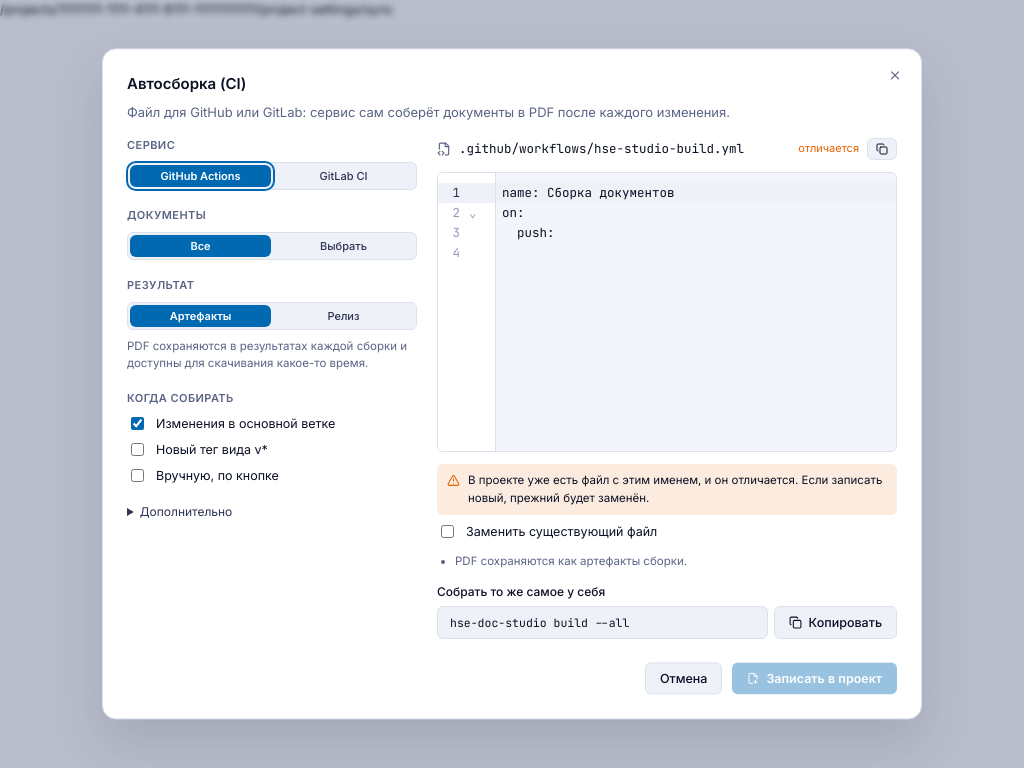
Test: окно автосборки (CI) › файл уже есть в проекте › отличающийся файл заменяется только после подтверждения
Expected: the text with test id "ci-state-differs" reads "отличается", [798,142,859,156]
Expected: the text "уже есть файл с этим именем" is shown, [468,474,882,505]
Click the checkbox with test id "ci-overwrite" at (448, 532), box [441,525,454,538]
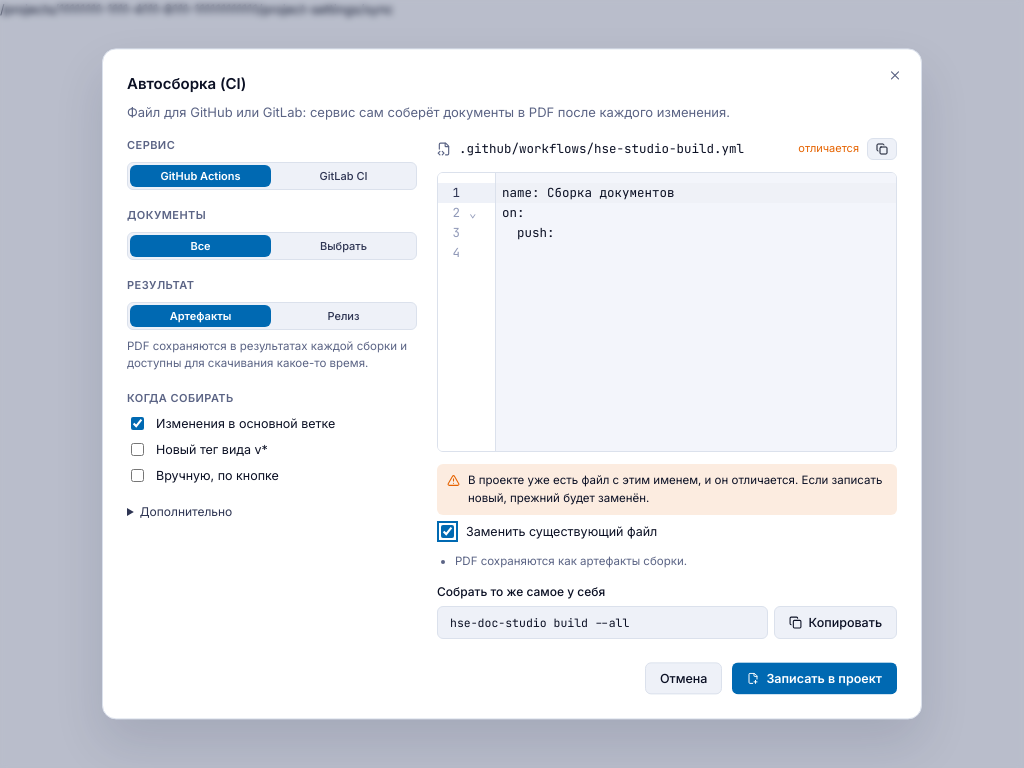
Expected: the button "Записать в проект" is enabled
Click the button "Записать в проект" at (815, 679), box [732,663,897,695]
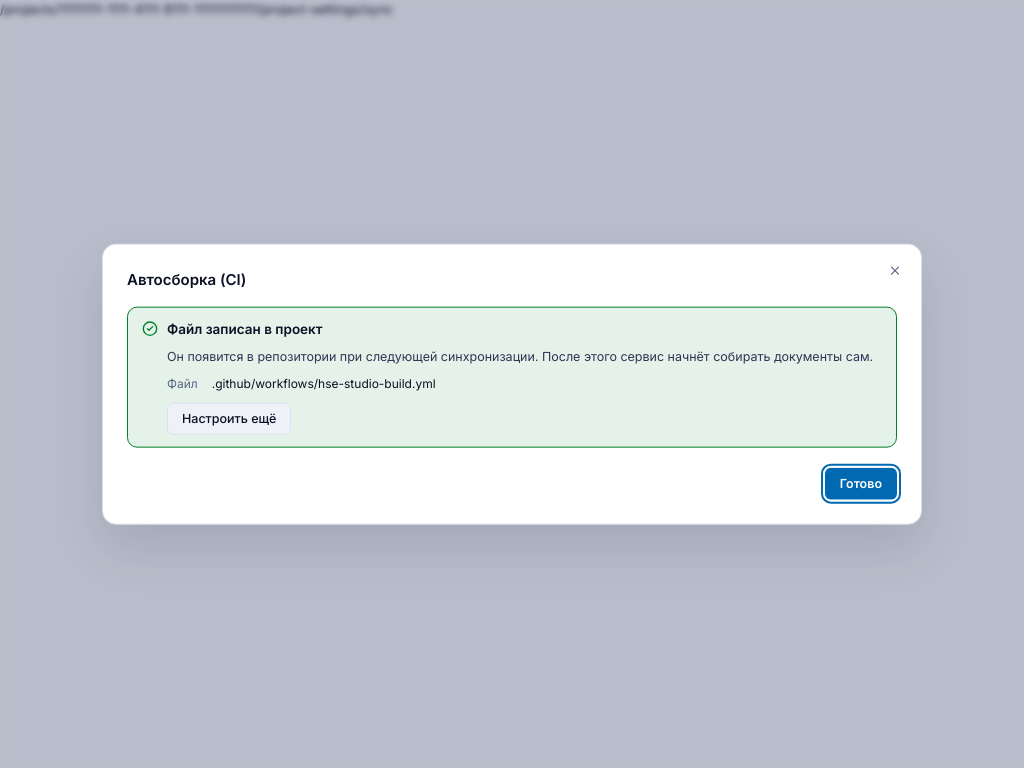
Expected: the message with test id "ci-done" is shown, [127,306,897,447]
